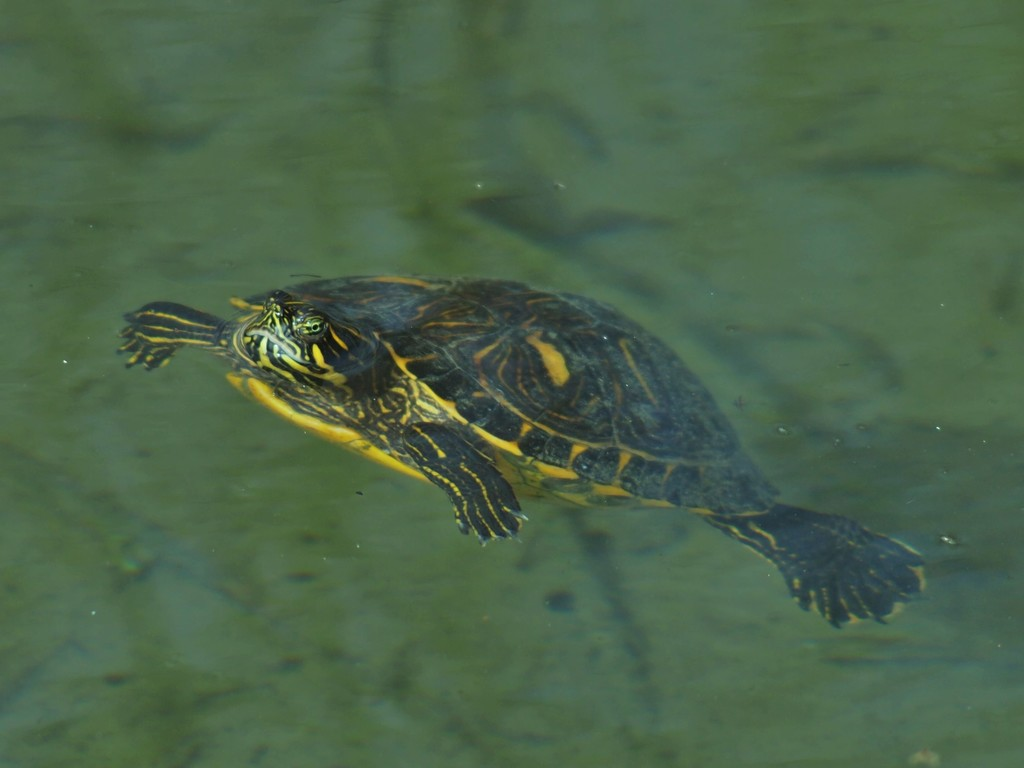Sea turtles: (106, 272, 926, 637)
